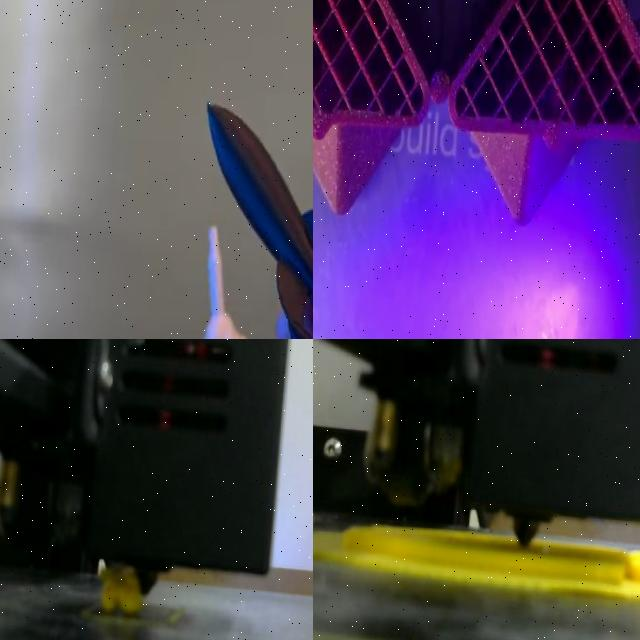spaghetti: (100, 566, 143, 615)
